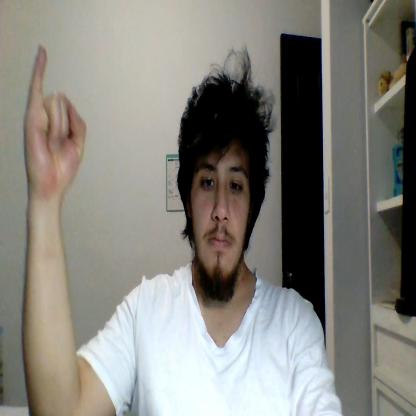I: (25, 45, 86, 194)
